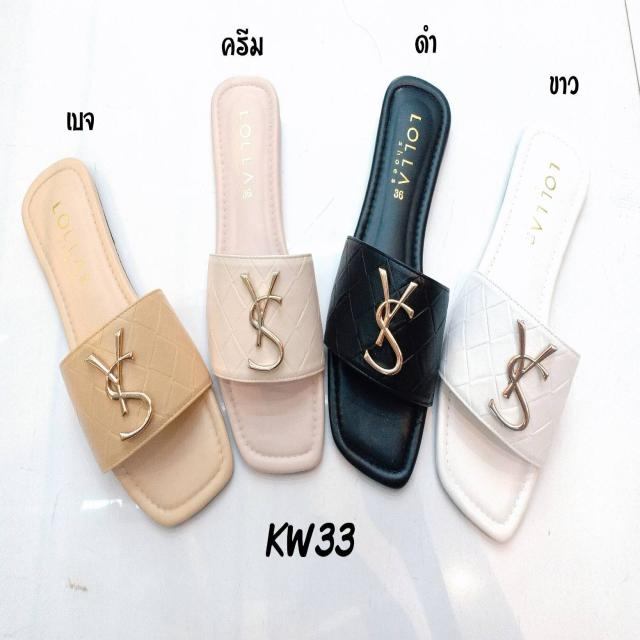bej: (22, 159, 232, 516)
black: (326, 74, 455, 488)
cream: (211, 77, 332, 468)
white: (439, 127, 594, 531)
